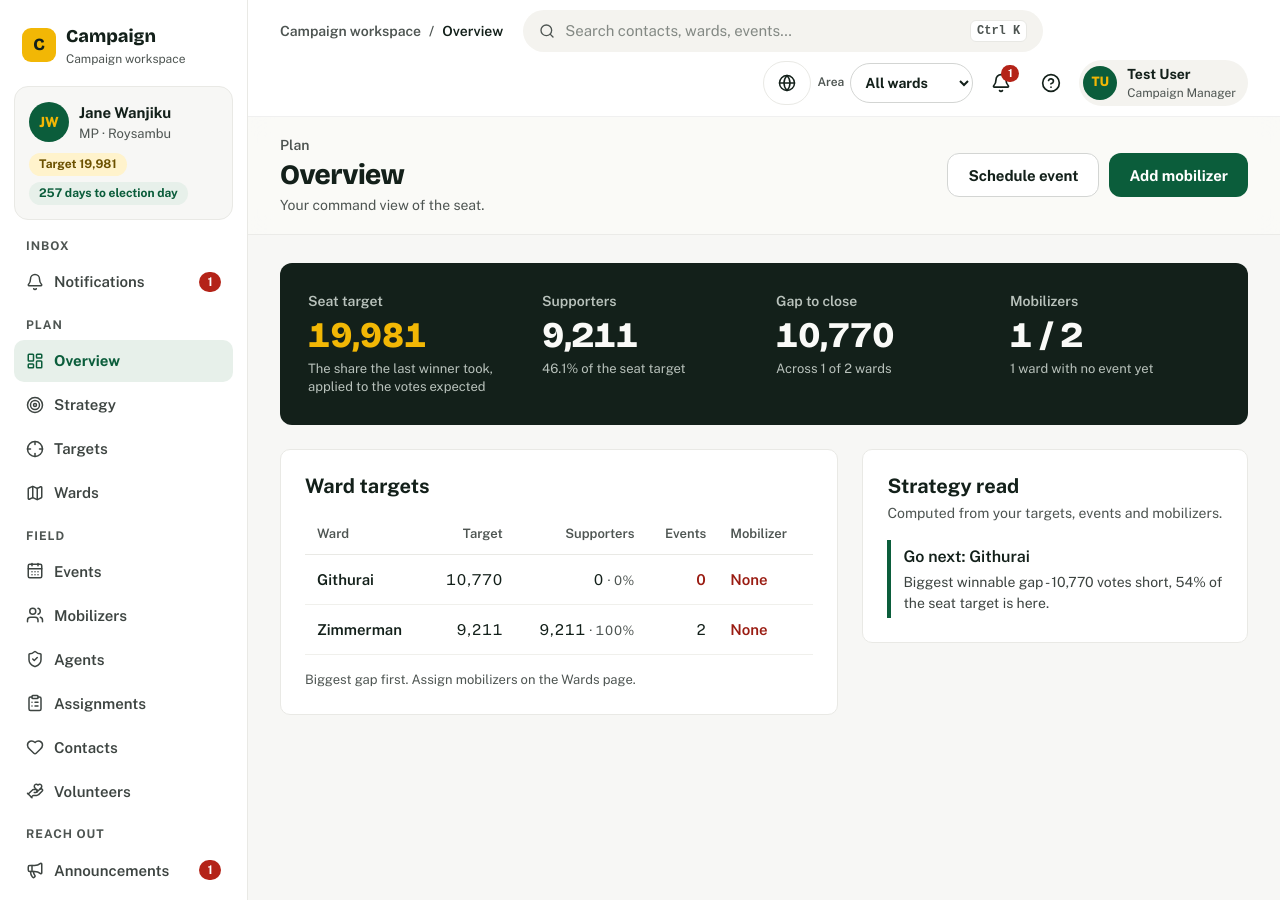
Test case: notifications › lists what the bell holds on its own page, linked from the sidebar
Check: the link "Overview" is shown, box [14,340,233,382]
Click the link "Notifications 1" at coordinates (124, 282), box [26,272,221,292]
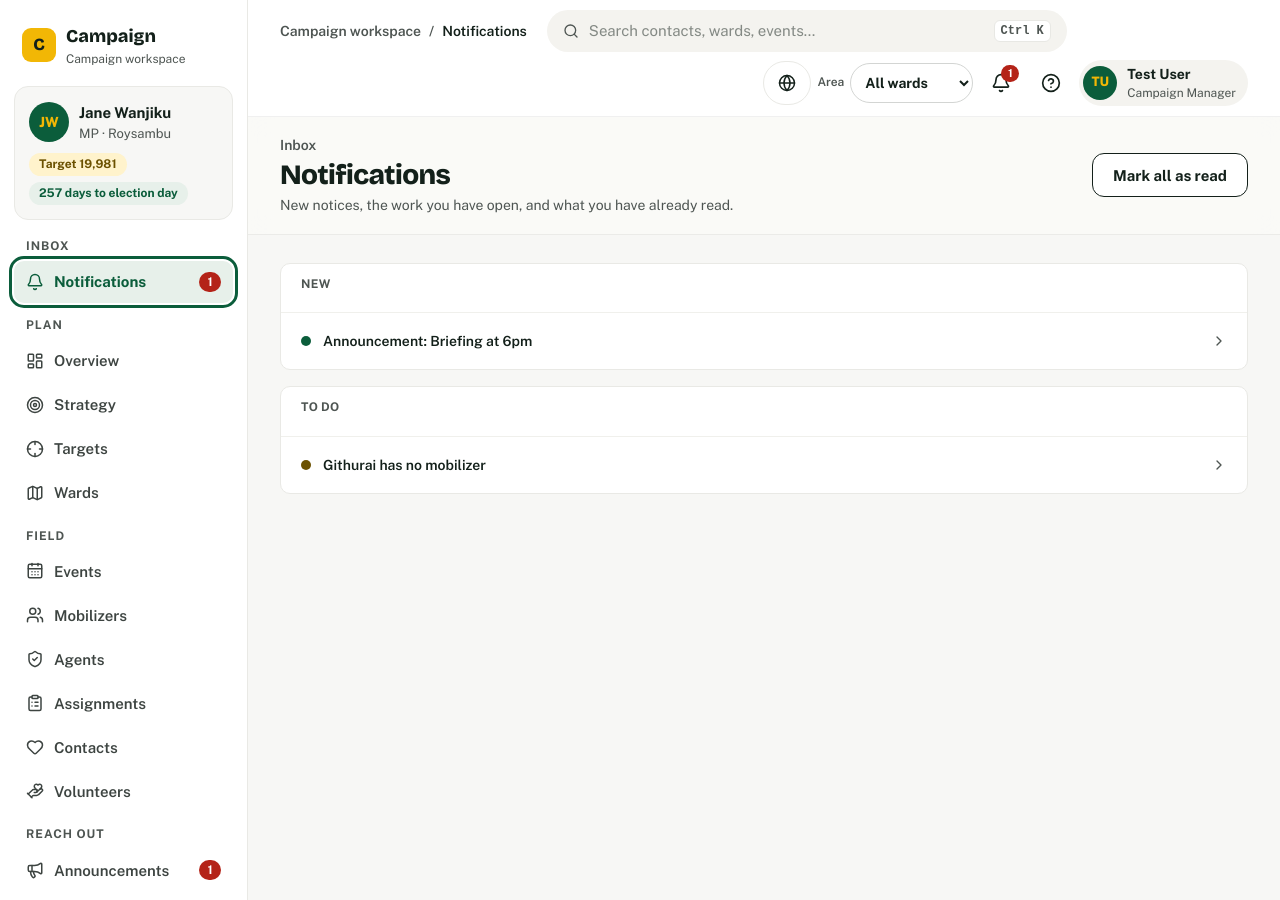
Check: the heading "Notifications" is shown, box [280,158,450,192]
